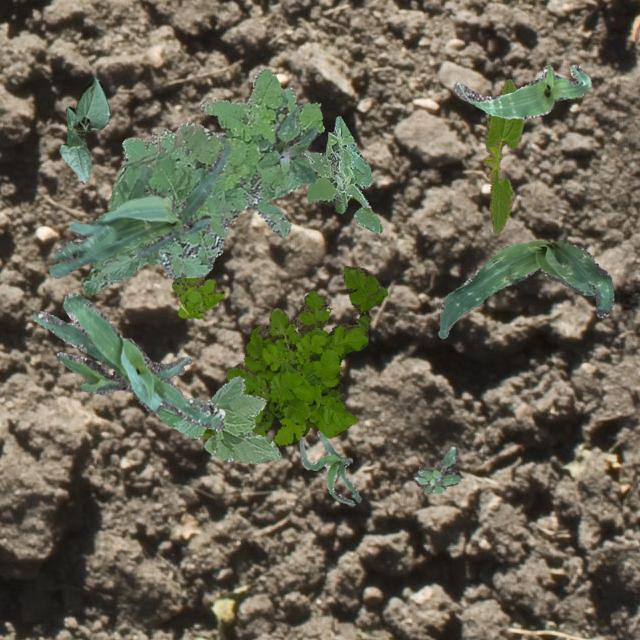crop: (32, 292, 224, 430), (48, 142, 230, 278), (437, 240, 612, 338), (156, 374, 280, 462), (452, 61, 590, 118), (482, 78, 522, 234), (58, 74, 110, 182), (298, 430, 361, 506)
weed: (82, 68, 324, 294), (200, 264, 387, 444), (303, 115, 382, 232), (258, 105, 316, 183), (172, 274, 224, 318), (414, 446, 461, 494)
